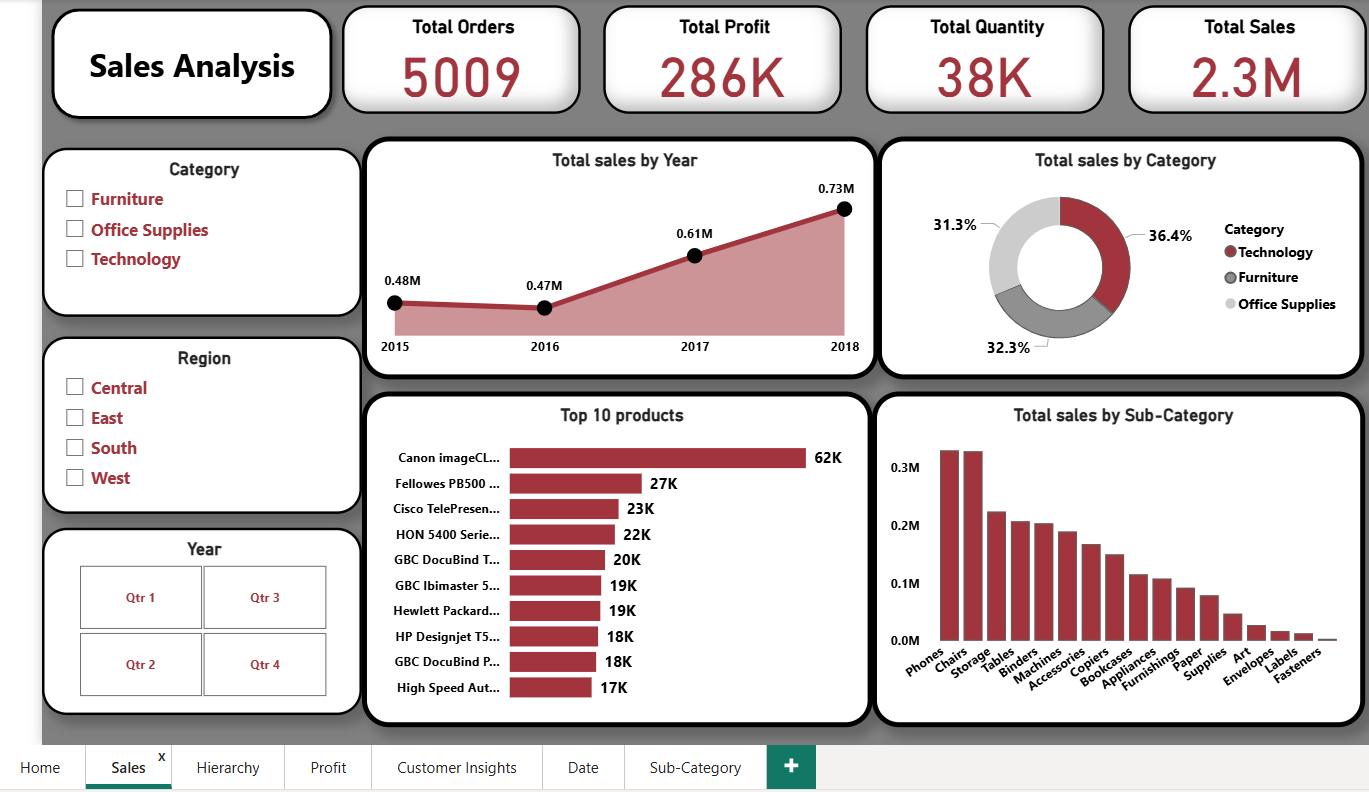

The dashboard page shown, as its layout file describes it:
{"tool":"powerbi","page":{"name":"Sales","canvas":[1280,720],"ordinal":1},"visuals":[{"type":"card","title":"Total Profit","fields":{"Values":["DAXmeasure.T_profit"]},"box":[542.2,6,230,105],"z":0},{"type":"card","title":"Total Quantity","fields":{"Values":["DAXmeasure.T_quantity"]},"box":[795,6,230,105],"z":1000},{"type":"card","title":"Total Sales","fields":{"Values":["DAXmeasure.T_sales"]},"box":[1047.9,6.6,230,105],"z":2000},{"type":"card","title":"Total Orders","fields":{"Values":["DAXmeasure.T_order"]},"box":[289.4,6,230,105],"z":3000},{"type":"shape","box":[0,0,289.5,124.9],"z":4000},{"type":"slicer","title":"Category","fields":{"Values":["ProductDim.Category"]},"box":[0,144.1,308.7,163.3],"z":5000},{"type":"slicer","title":"Region","fields":{"Values":["CustomerDim.Region"]},"box":[0,325.2,308.7,171.5],"z":6000},{"type":"slicer","title":"Year","fields":{"Values":["DateDim.Order Date.Variation.Date Hierarchy.Quarter"]},"box":[0,510.5,308.7,181.1],"z":7000},{"type":"lineChart","title":"Total sales by Year","fields":{"Category":["DateDim.Order Date.Variation.Date Hierarchy.Year","DateDim.Order Date.Variation.Date Hierarchy.Quarter","DateDim.Order Date.Variation.Date Hierarchy.Month","DateDim.Order Date.Variation.Date Hierarchy.Day"],"Y":["DAXmeasure.T_sales"]},"box":[308.7,133.1,498.1,234.6],"z":8000},{"type":"donutChart","title":"Total sales by Category","fields":{"Category":["ProductDim.Category"],"Y":["DAXmeasure.T_sales"]},"box":[805.5,133.1,470.7,234.6],"z":9000},{"type":"barChart","title":"Top 10 products","fields":{"Y":["DAXmeasure.T_sales"],"Category":["ProductDim.Product Name"]},"box":[308.7,378.7,492.6,323.8],"z":10000},{"type":"columnChart","title":"Total sales by Sub-Category","fields":{"Category":["ProductDim.Sub-Category"],"Y":["DAXmeasure.T_sales"]},"box":[801.4,378.7,476.2,323.8],"z":11000}]}

Visuals, with their boxes on the page's 1280x720 design canvas (x1, y1, x2, y2). These are canvas units, not pixel positions in the 1369x792 screenshot, which may show the page scaled, cropped or inside an application window:
"Total Profit" card: pyautogui.locateOnScreen(542, 6, 772, 111)
"Total Quantity" card: pyautogui.locateOnScreen(795, 6, 1025, 111)
"Total Sales" card: pyautogui.locateOnScreen(1048, 7, 1278, 112)
"Total Orders" card: pyautogui.locateOnScreen(289, 6, 519, 111)
shape: pyautogui.locateOnScreen(0, 0, 290, 125)
"Category" slicer: pyautogui.locateOnScreen(0, 144, 309, 307)
"Region" slicer: pyautogui.locateOnScreen(0, 325, 309, 497)
"Year" slicer: pyautogui.locateOnScreen(0, 510, 309, 692)
"Total sales by Year" lineChart: pyautogui.locateOnScreen(309, 133, 807, 368)
"Total sales by Category" donutChart: pyautogui.locateOnScreen(806, 133, 1276, 368)
"Top 10 products" barChart: pyautogui.locateOnScreen(309, 379, 801, 702)
"Total sales by Sub-Category" columnChart: pyautogui.locateOnScreen(801, 379, 1278, 702)
